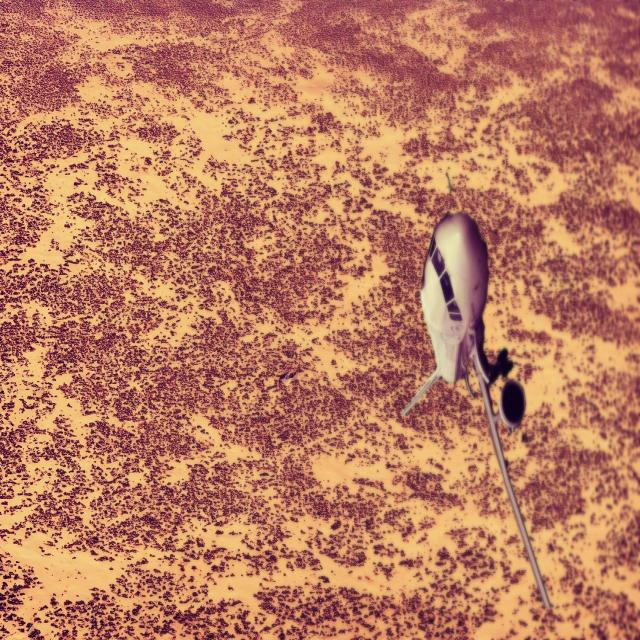airplane: (401, 210, 552, 609)
